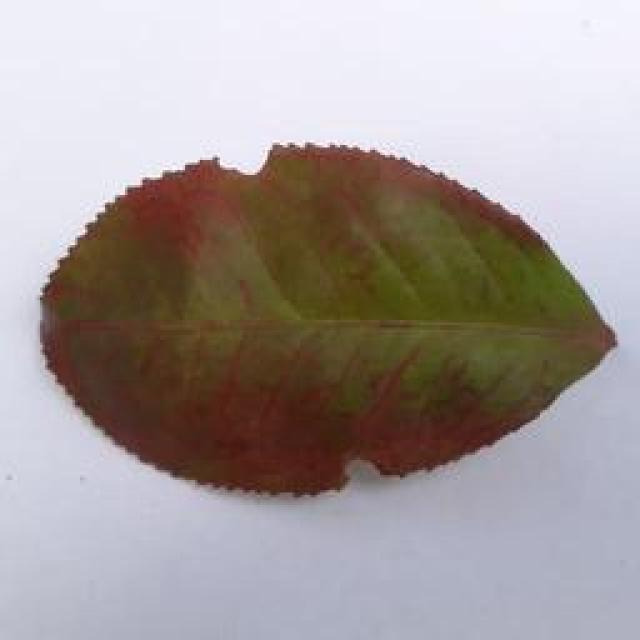Red Leaf Spot: (18, 135, 640, 505)
